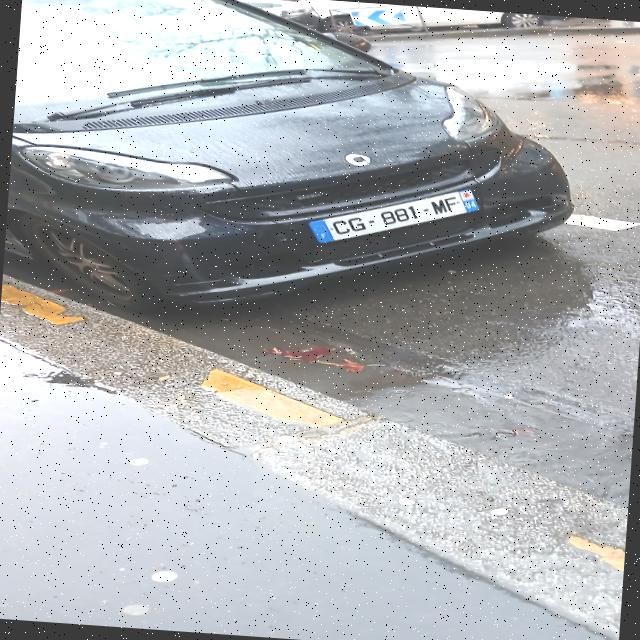Autre: (303, 184, 494, 245)
